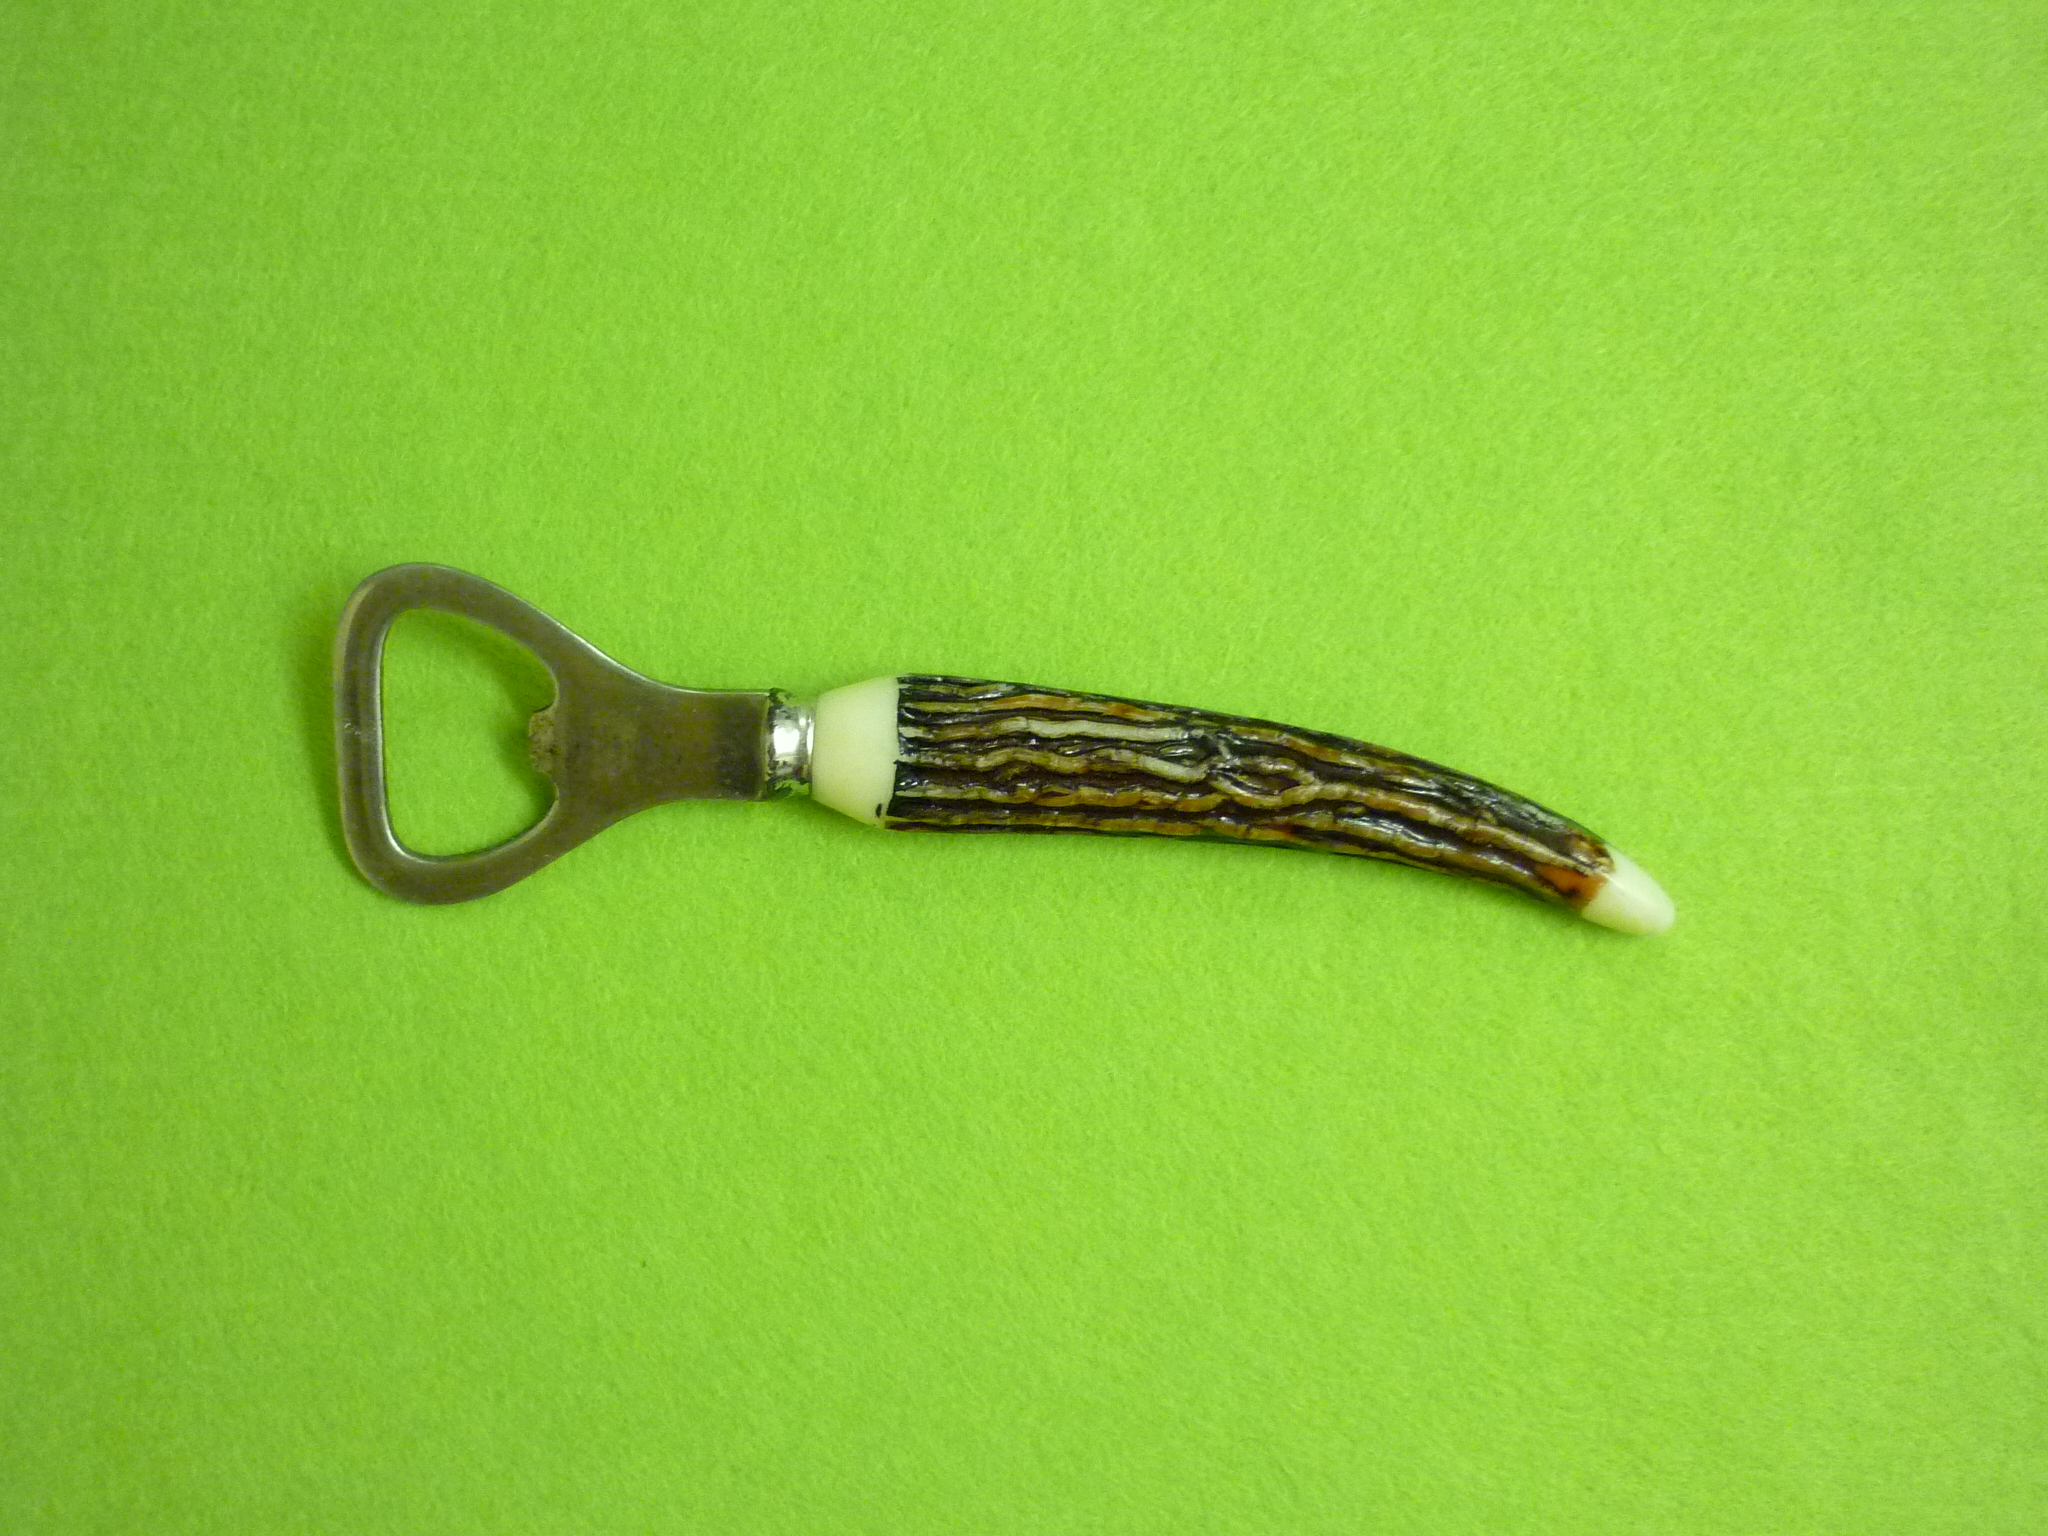bottleopener: (332, 560, 1684, 942)
